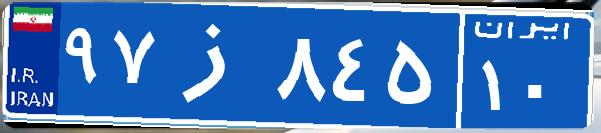0: (525, 38, 570, 115)
1: (475, 38, 525, 113)
4: (330, 28, 385, 110)
5: (385, 28, 445, 110)
7: (110, 28, 158, 105)
8: (273, 28, 330, 110)
9: (57, 26, 110, 107)
ز: (158, 15, 273, 115)
